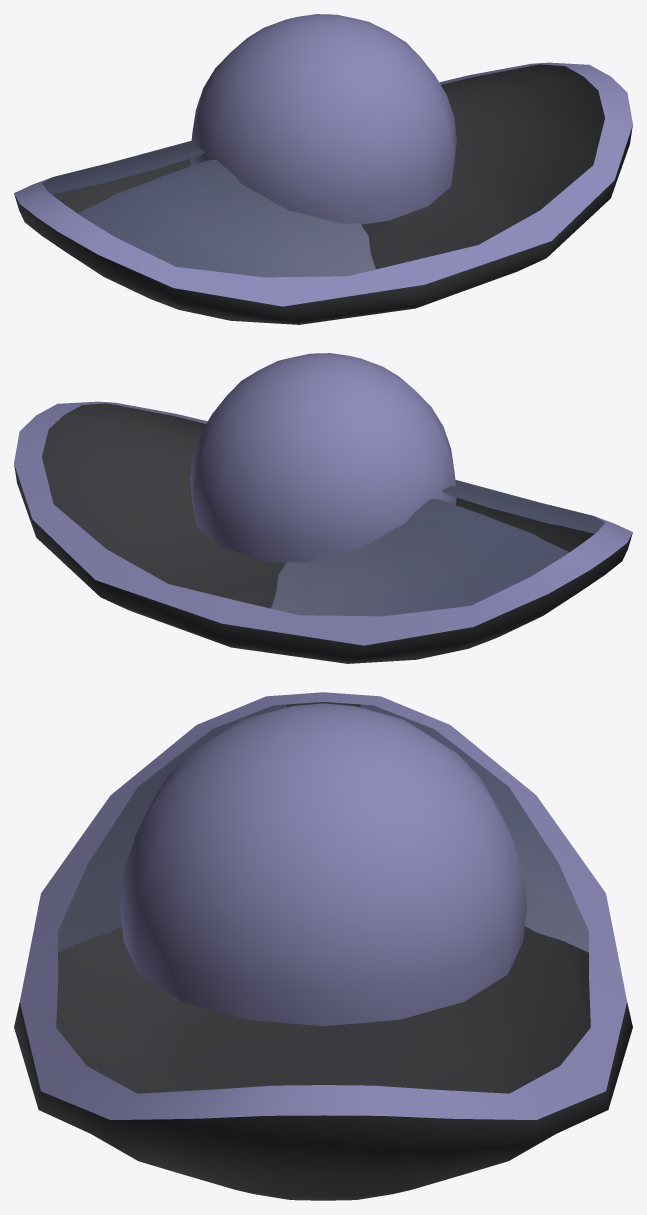
The model's file is 3D_Asteroide.fbx.
3 renders of one model, top to bottom at view 1: azimuth 30°, elevation 25°; view 2: azimuth 150°, elevation 25°; view 3: azimuth 270°, elevation 25°, orthographic. The views are drawn at different scales.
Parts seen in each view (by area): view 1: Sfera, Parte sotto, Piano sotto; view 2: Sfera, Parte sotto, Piano sotto; view 3: Sfera, Parte sotto, Piano sotto.
Boxes of the visible parts, left/top/right/bottom form: Sfera: left=14, top=14, right=632, bottom=306; Parte sotto: left=14, top=64, right=632, bottom=324; Piano sotto: left=42, top=141, right=375, bottom=277; Sfera: left=14, top=353, right=632, bottom=645; Parte sotto: left=14, top=403, right=632, bottom=663; Piano sotto: left=271, top=480, right=604, bottom=616; Sfera: left=19, top=692, right=627, bottom=1119; Parte sotto: left=14, top=702, right=632, bottom=1200; Piano sotto: left=58, top=704, right=588, bottom=952.
Size of the model in its own units: 213 by 83.45 by 131.
